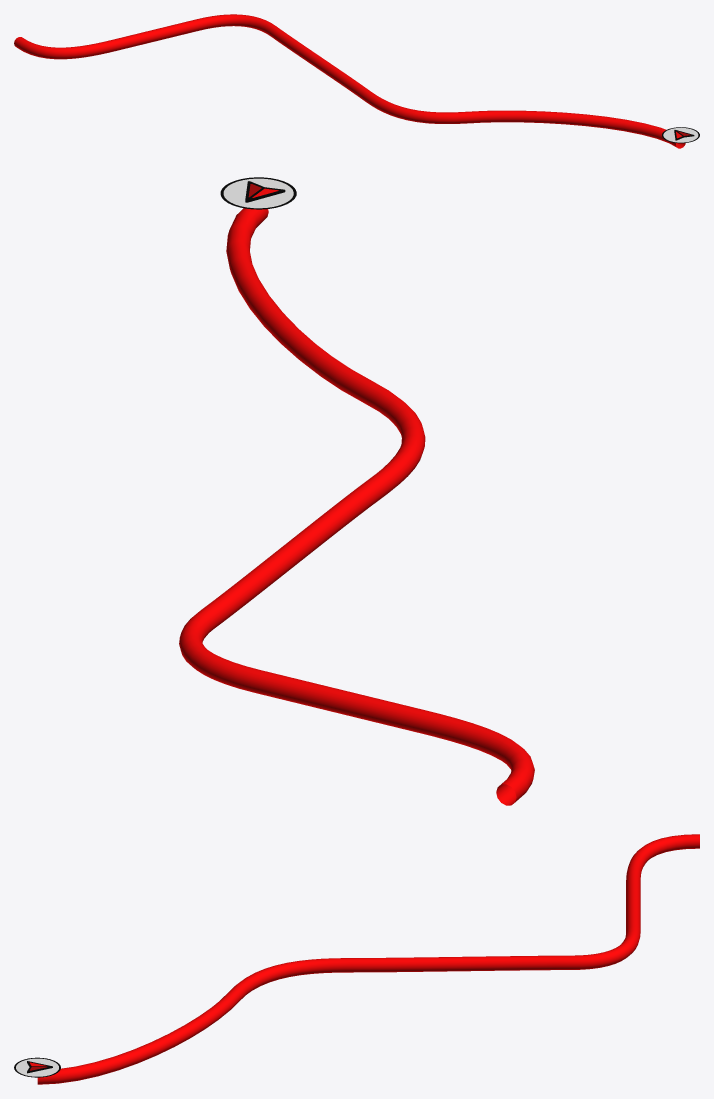
File: route_f4ebd503-3e8b-48ca-9d62-5abc2ffda66e_de_single.glb
The picture shows the model from 3 angles, top to bottom: view 1: azimuth 30°, elevation 25°; view 2: azimuth 150°, elevation 25°; view 3: azimuth 270°, elevation 25°; orthographic projection. The views are drawn at different scales.
Parts seen in each view (by area): view 1: A4, Abteil 4, Navipfeil.046; view 2: A4, Abteil 4, Navipfeil.046; view 3: A4, Abteil 4, Navipfeil.046.
Boxes of the visible parts, bbox=[...] form: A4, Abteil 4: bbox=[14, 14, 685, 148]; Navipfeil.046: bbox=[662, 127, 699, 143]; A4, Abteil 4: bbox=[179, 208, 534, 805]; Navipfeil.046: bbox=[220, 177, 296, 209]; A4, Abteil 4: bbox=[37, 834, 699, 1084]; Navipfeil.046: bbox=[14, 1057, 60, 1077].
Bounding box in the file's own units: 3.25 × 0.1062 × 3.78.
